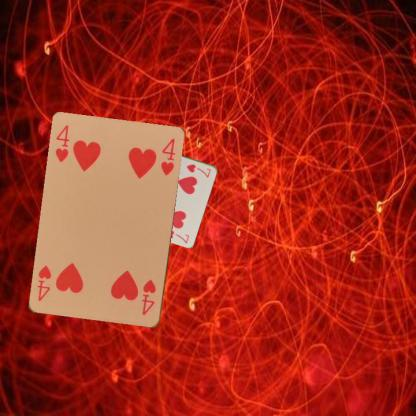4h: (139, 277, 158, 317), (52, 123, 70, 164)
7h: (184, 161, 212, 179)
